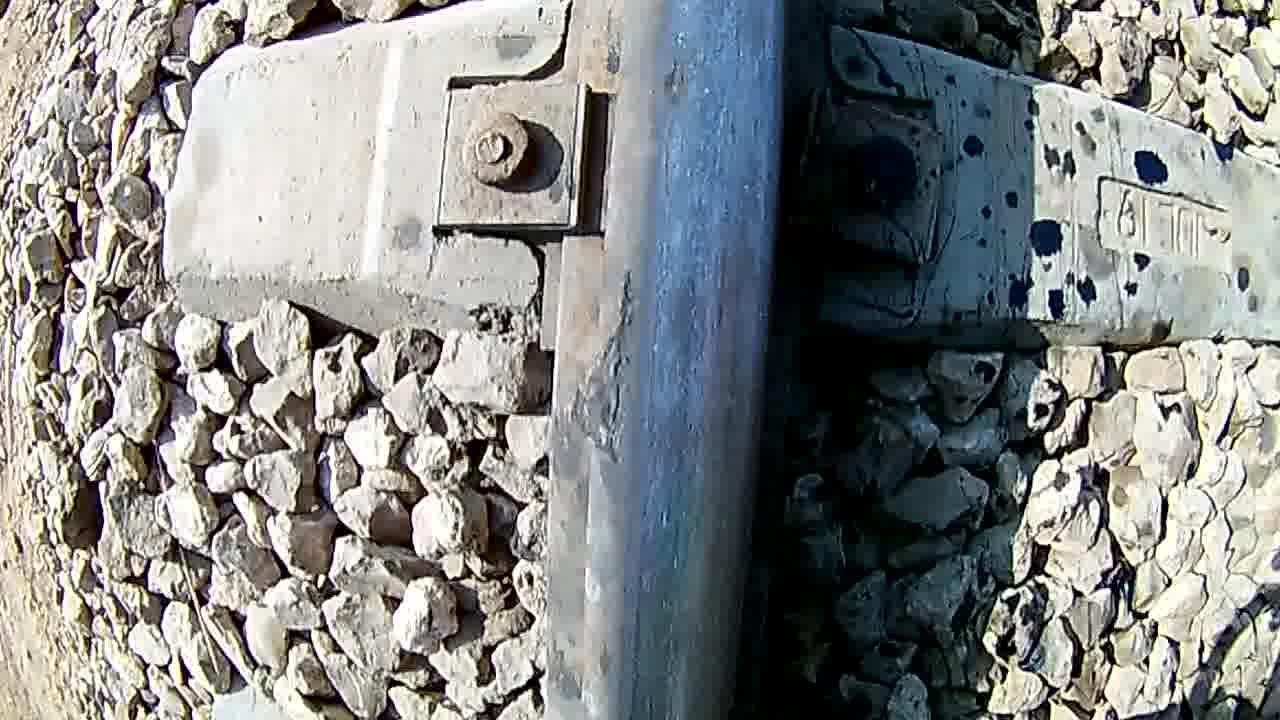crack: (613, 3, 793, 720)
